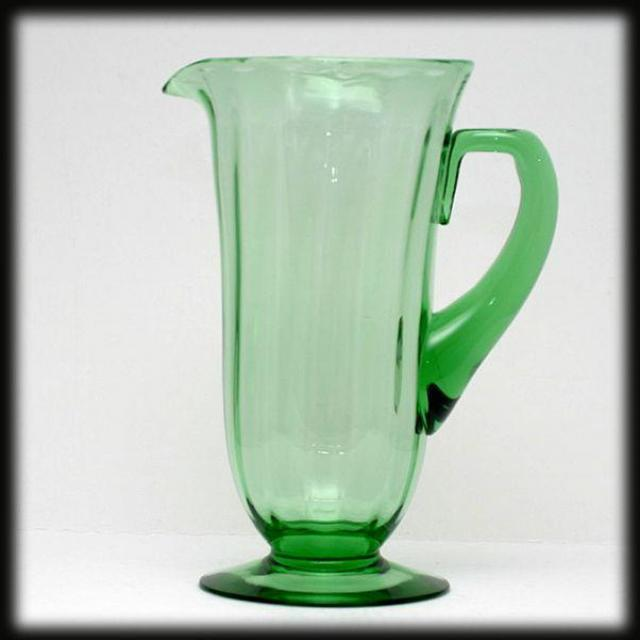non-organic waste: (153, 41, 570, 620)
